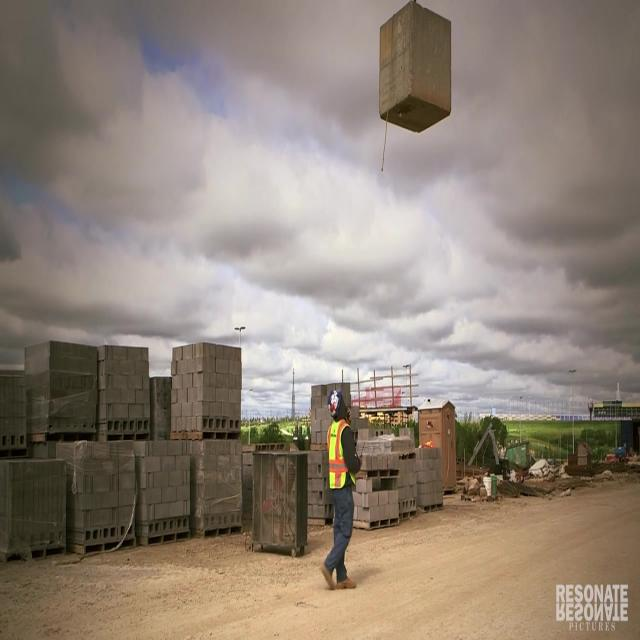Reflective-Jacket: (322, 418, 362, 497)
Safety-Helmet: (325, 388, 347, 412)
